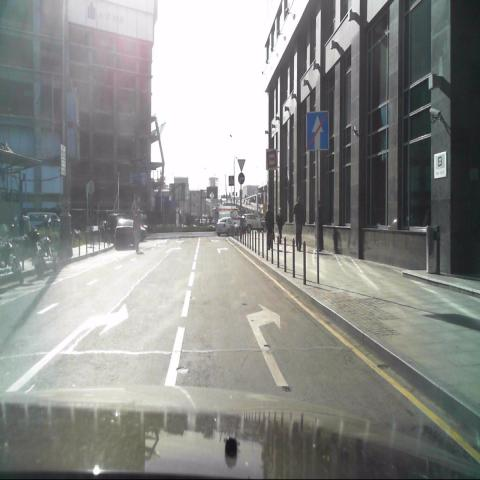5_6: (306, 111, 328, 150)
